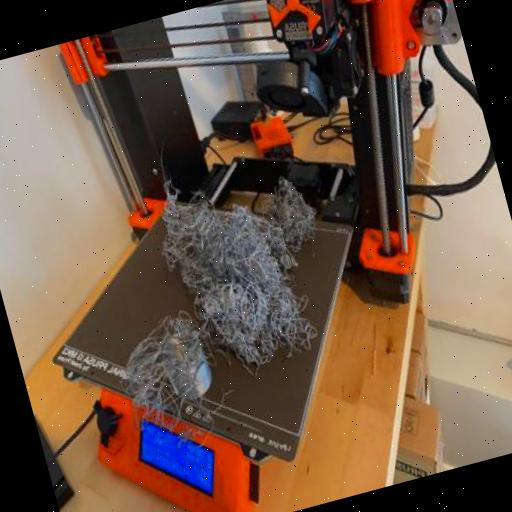spaghetti: (110, 154, 358, 422)
